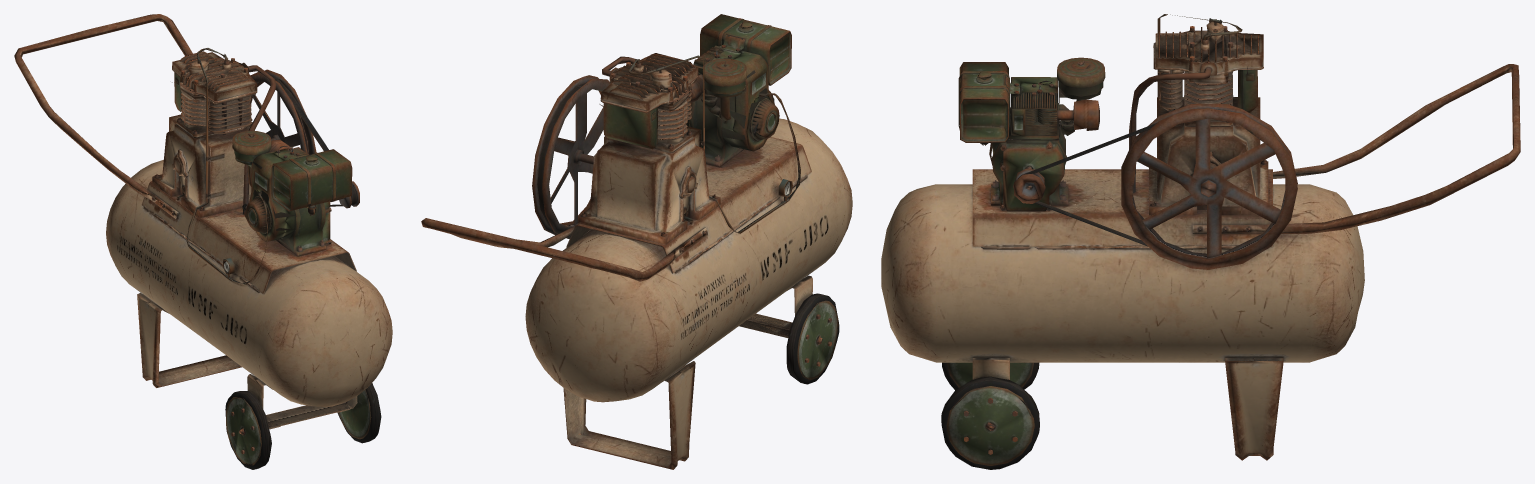
Rendered from old_military_compressor.glb.
The picture shows the model from 3 angles, left to right: view 1: azimuth 30°, elevation 25°; view 2: azimuth 150°, elevation 25°; view 3: azimuth 270°, elevation 25°; orthographic projection. The views are drawn at different scales.
Visible parts, largest first — view 1: old_military_compressor; view 2: old_military_compressor; view 3: old_military_compressor.
Boxes of the visible parts, box(x1,y1,x2,y2) form: old_military_compressor: box(14, 14, 392, 469); old_military_compressor: box(421, 14, 852, 469); old_military_compressor: box(881, 14, 1520, 469).
Bounding box in the file's own units: 0.5957 × 1.18 × 1.67.
2 materials, 2 textured.
